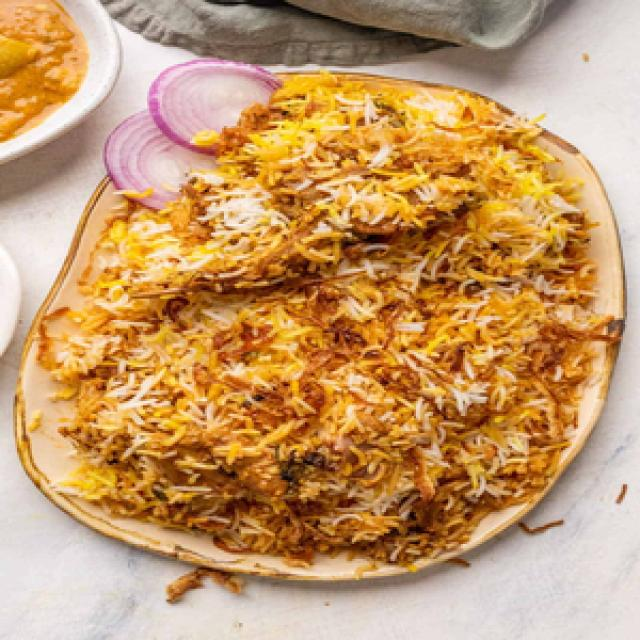chicken biriyani: (18, 49, 614, 583)
